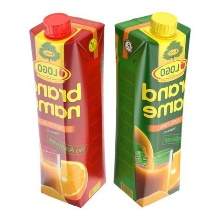carton: (11, 9, 108, 207), (108, 8, 192, 211)
